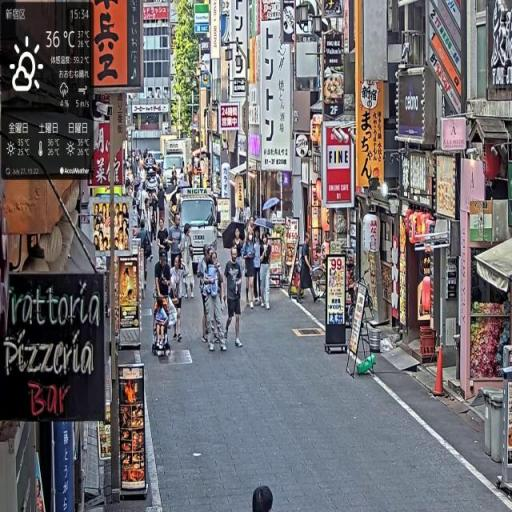person: (201, 248, 225, 351), (223, 245, 245, 351), (169, 253, 187, 344), (181, 222, 197, 302), (258, 232, 273, 311)
